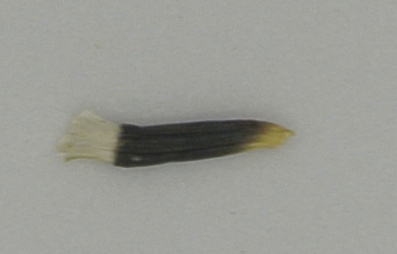เมล็ดดีติดกัน: (54, 109, 295, 169)
